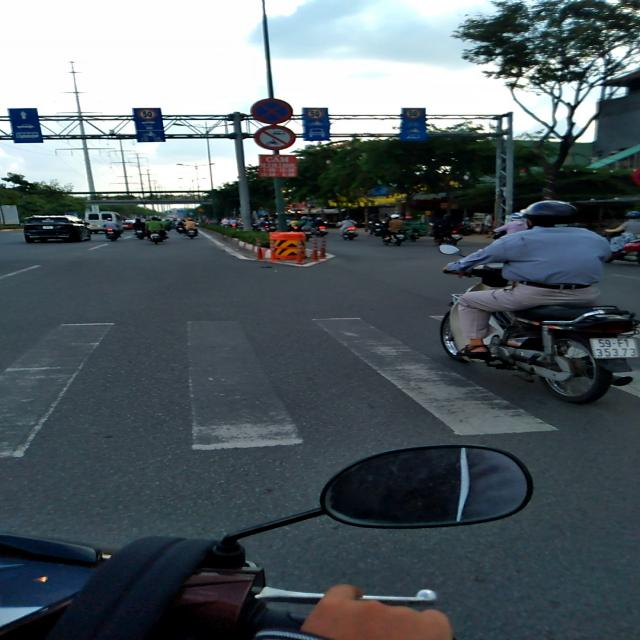P.127: (138, 108, 156, 120), (306, 109, 324, 119), (405, 109, 422, 119)
P.130: (250, 98, 293, 124)
